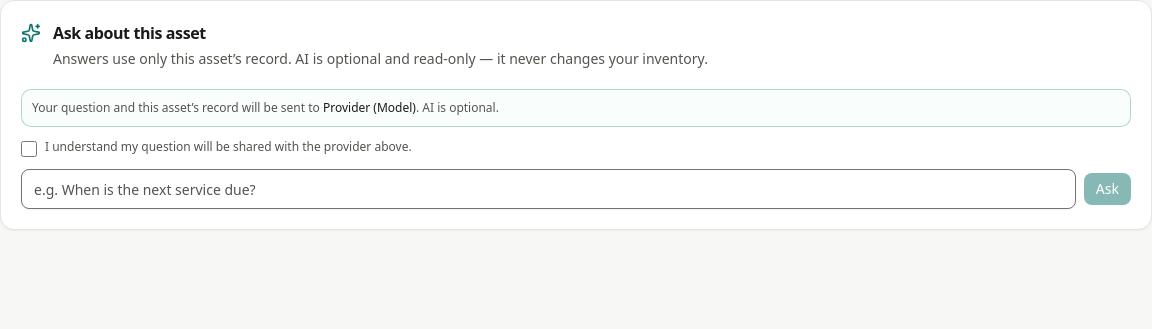
AiChatCard AG-UI streaming › shows progress steps for real work, then the validated answer
This screenshot has width=1152, height=329.
Later steps or results of the test are not shown.
Step 1. Click the checkbox → point(29, 149), box [21,141,37,157]
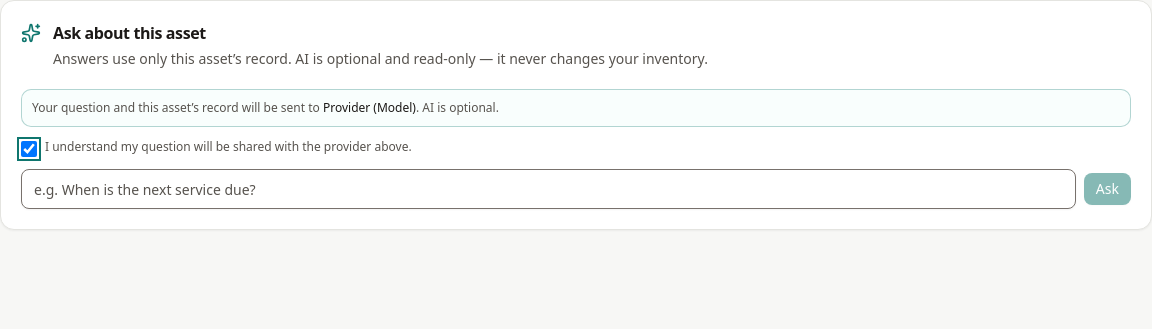
Step 2. Type "What is the status?" into the field named "Question about this asset" → point(548, 189), box [21,169,1076,209]
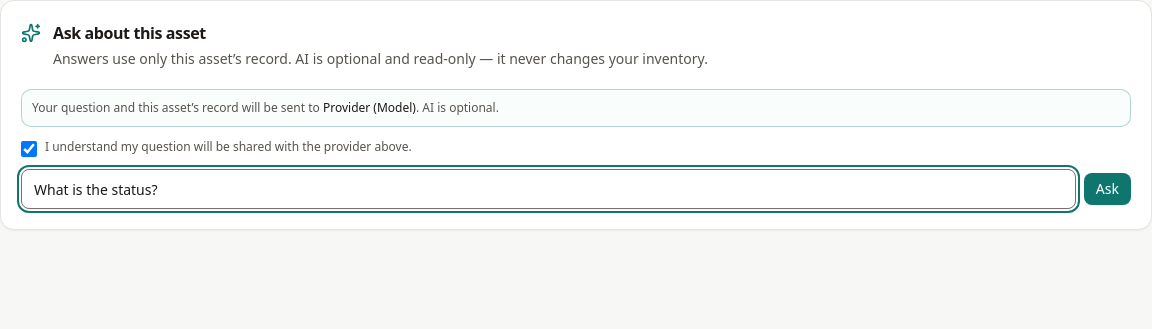
Step 3. Click the button "Ask" → point(1107, 189), box [1084,173,1131,205]
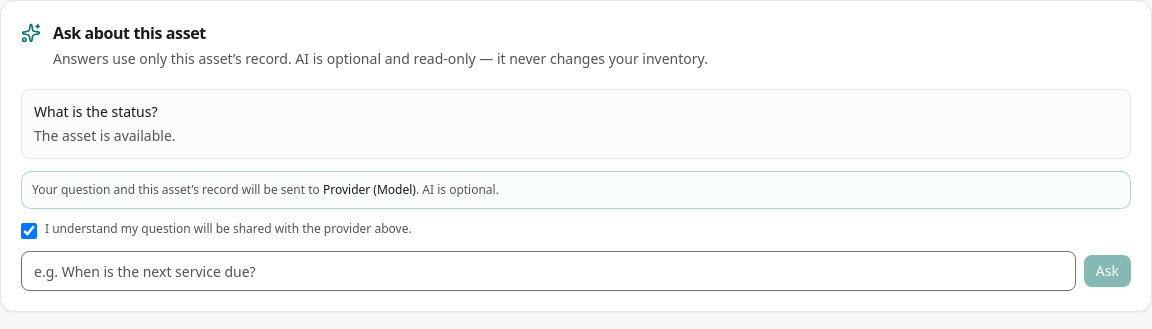
Expected: the field named "Question about this asset" is enabled, [21,251,1076,291]
Expected: the text "The asset is available." is shown, [34,126,176,145]
